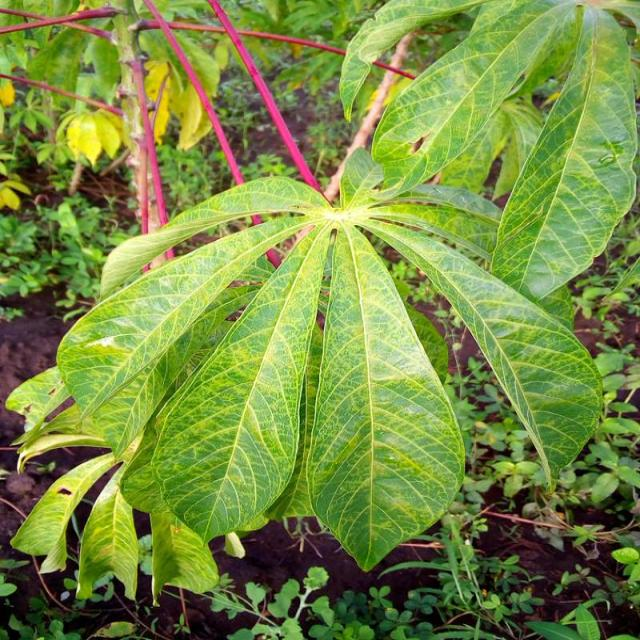cassava leaf: (5, 1, 638, 607), (148, 219, 330, 546), (304, 218, 466, 572), (488, 3, 638, 302)
